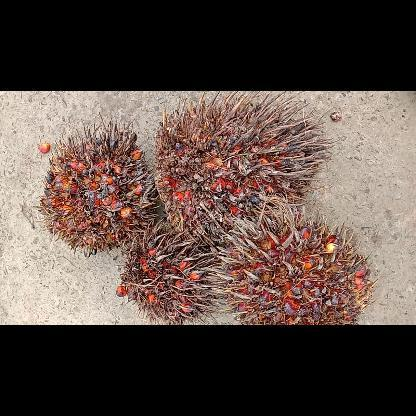Terlalu masak: (152, 91, 338, 243), (210, 194, 384, 324), (32, 112, 166, 258), (118, 214, 232, 324)
